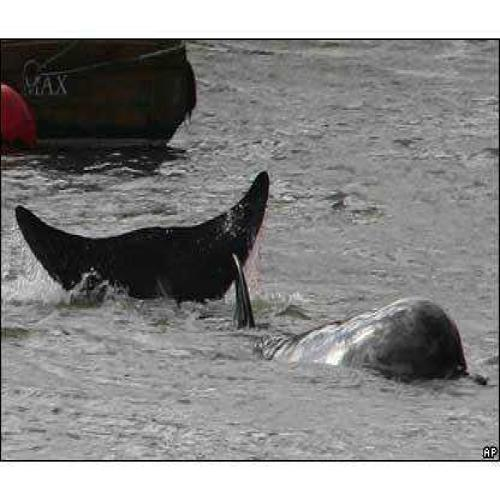killer_whale-endangered: (204, 236, 499, 411), (5, 154, 300, 328)
